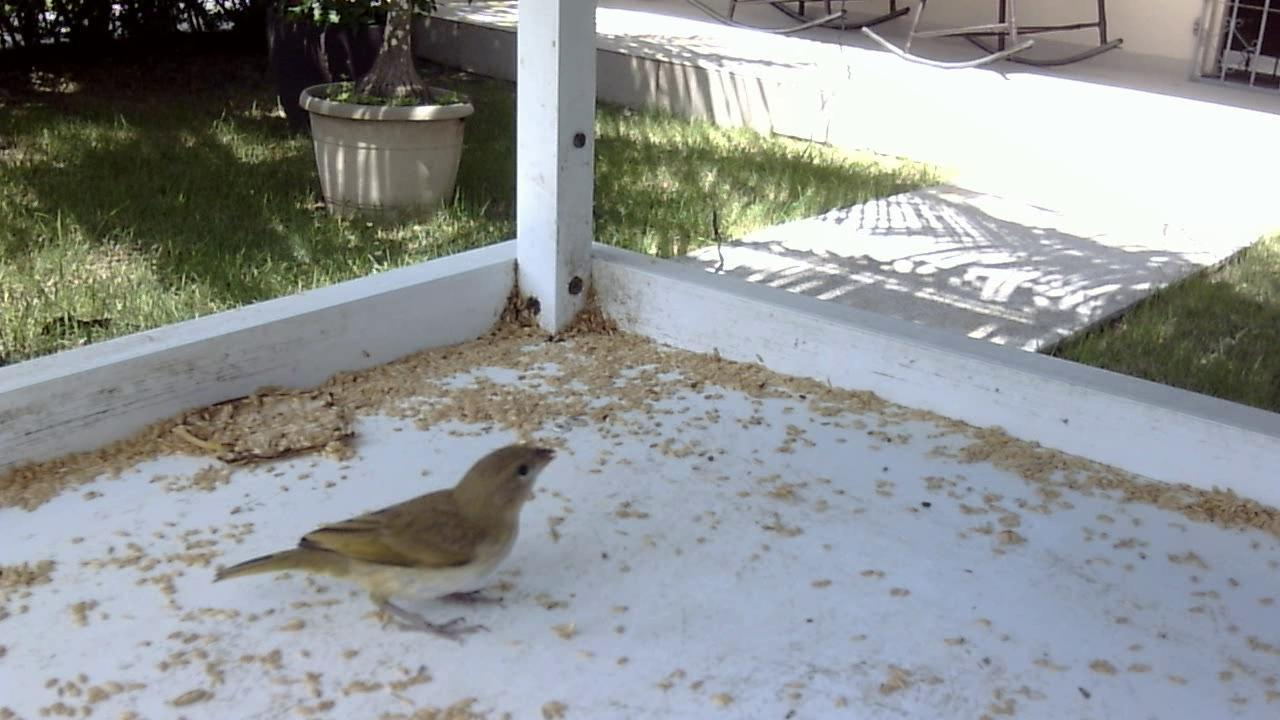canario_do_amazonas: (204, 433, 576, 650)
